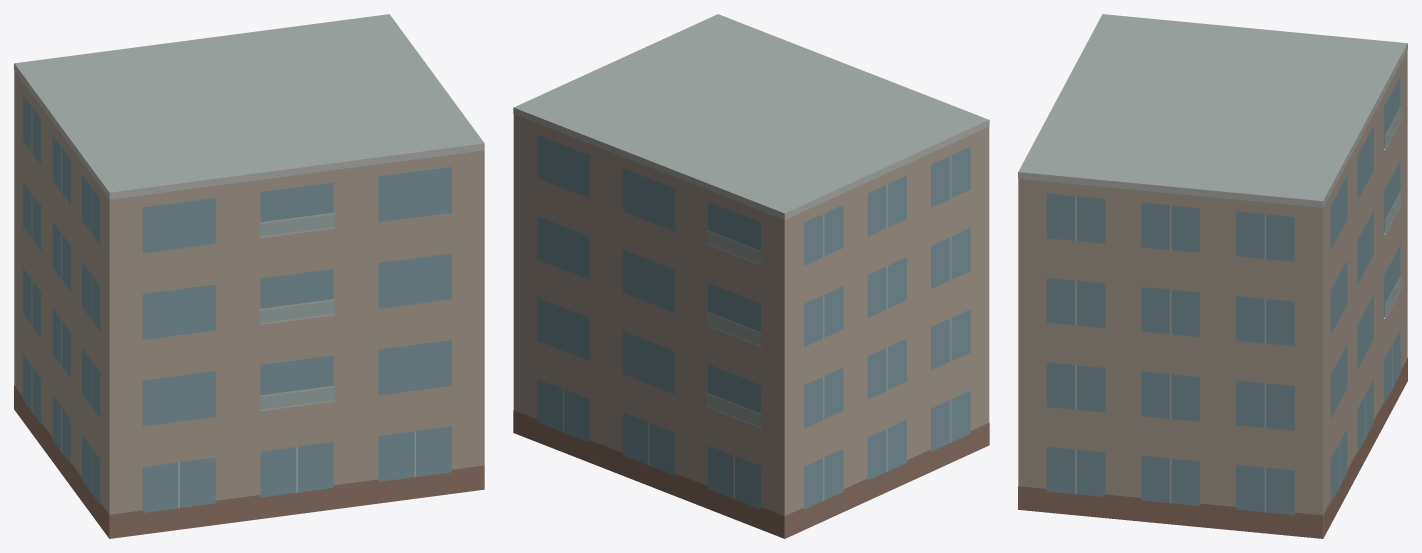
File: residential-ee3bf011-ecfa-4fb0-bfbc-39cd2386d612.glb
3 views of the same model, side by side, from view 1: azimuth 30°, elevation 25°; view 2: azimuth 150°, elevation 25°; view 3: azimuth 270°, elevation 25° (orthographic). The views are drawn at different scales.
Parts seen in each view (by area): view 1: residential-ee3bf011-ecfa-4fb0-bfbc-39cd2386d612.tmp; view 2: residential-ee3bf011-ecfa-4fb0-bfbc-39cd2386d612.tmp; view 3: residential-ee3bf011-ecfa-4fb0-bfbc-39cd2386d612.tmp.
Boxes of the visible parts, <box> form: residential-ee3bf011-ecfa-4fb0-bfbc-39cd2386d612.tmp: <box>14,14,484,538</box>; residential-ee3bf011-ecfa-4fb0-bfbc-39cd2386d612.tmp: <box>513,14,989,538</box>; residential-ee3bf011-ecfa-4fb0-bfbc-39cd2386d612.tmp: <box>1018,14,1407,538</box>.
Size of the model in its own units: 14.51 by 12.2 by 12.77.
